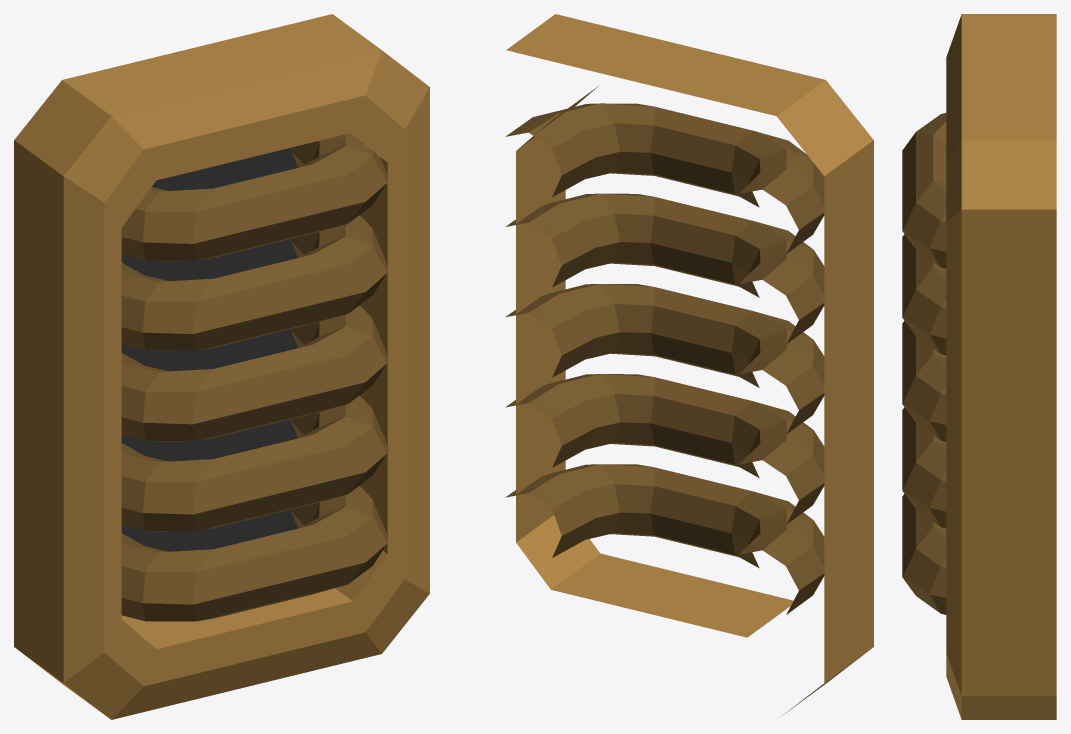
The picture shows the model from 3 angles, left to right: view 1: azimuth 30°, elevation 25°; view 2: azimuth 150°, elevation 25°; view 3: azimuth 270°, elevation 25°; orthographic projection. The views are drawn at different scales.
Visible parts, largest first — view 1: Details_Vent_4; view 2: Details_Vent_4; view 3: Details_Vent_4.
Boxes of the visible parts, x1=… form: Details_Vent_4: x1=14, y1=14, x2=429, y2=719; Details_Vent_4: x1=505, y1=14, x2=873, y2=716; Details_Vent_4: x1=902, y1=14, x2=1056, y2=719.
Size of the model in its own units: 0.2383 by 0.3753 by 0.0905.
